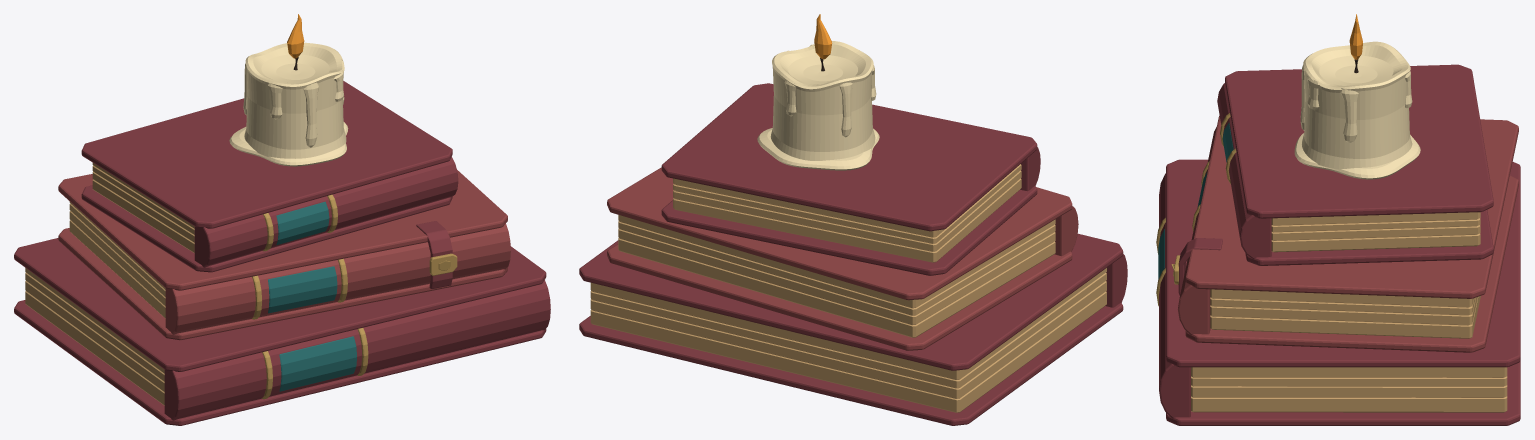
Rendered from asset.glb.
3 renders of one model, left to right at view 1: azimuth 30°, elevation 25°; view 2: azimuth 150°, elevation 25°; view 3: azimuth 270°, elevation 25°, orthographic. The views are drawn at different scales.
Parts seen in each view (by area): view 1: book_top_cover_upper, book_bottom_cover_upper, book_bottom_spine, book_middle_cover_upper, book_middle_spine, candle_wax_body, book_top_spine, book_bottom_cover_lower, book_bottom_page_block, book_middle_cover_lower, book_top_cover_lower, book_middle_page_block (+10 smaller); view 2: book_top_cover_upper, book_bottom_page_block, book_middle_page_block, book_bottom_cover_upper, book_middle_cover_upper, book_top_page_block, candle_wax_body, book_bottom_cover_lower, book_middle_cover_lower, book_top_cover_lower, candle_wax_pool, book_bottom (+7 smaller); view 3: book_top_cover_upper, book_middle_cover_upper, book_bottom_cover_upper, book_bottom_page_block, candle_wax_body, book_middle_page_block, book_top_page_block, book_middle_cover_lower, book_bottom_cover_lower, book_top_cover_lower, book_bottom_spine, book_top_spine (+8 smaller).
Part boxes in pixels (bbox=[...]): book_top_cover_upper: bbox=[81, 81, 452, 228]; book_bottom_cover_upper: bbox=[14, 238, 546, 371]; book_bottom_spine: bbox=[164, 280, 550, 420]; book_middle_cover_upper: bbox=[58, 170, 507, 290]; book_middle_spine: bbox=[165, 223, 510, 334]; candle_wax_body: bbox=[244, 42, 346, 158]; book_top_spine: bbox=[194, 157, 458, 267]; book_bottom_cover_lower: bbox=[14, 300, 546, 425]; book_bottom_page_block: bbox=[25, 268, 164, 405]; book_middle_cover_lower: bbox=[58, 228, 507, 340]; book_top_cover_lower: bbox=[81, 185, 452, 272]; book_middle_page_block: bbox=[69, 201, 165, 318]; book_top_cover_upper: bbox=[661, 83, 1037, 231]; book_bottom_page_block: bbox=[590, 268, 1106, 412]; book_middle_page_block: bbox=[618, 215, 1055, 337]; book_bottom_cover_upper: bbox=[579, 233, 1123, 370]; book_middle_cover_upper: bbox=[607, 167, 1072, 300]; book_top_page_block: bbox=[673, 164, 1021, 262]; candle_wax_body: bbox=[770, 41, 875, 160]; book_bottom_cover_lower: bbox=[579, 303, 1123, 425]; book_middle_cover_lower: bbox=[607, 244, 1072, 350]; book_top_cover_lower: bbox=[661, 186, 1037, 275]; candle_wax_pool: bbox=[757, 128, 879, 170]; book_bottom: bbox=[593, 291, 959, 398]; book_top_cover_upper: bbox=[1225, 64, 1493, 218]; book_middle_cover_upper: bbox=[1185, 115, 1518, 298]; book_bottom_cover_upper: bbox=[1166, 159, 1520, 367]; book_bottom_page_block: bbox=[1191, 367, 1507, 412]; candle_wax_body: bbox=[1302, 41, 1412, 169]; book_middle_page_block: bbox=[1210, 289, 1480, 338]; book_top_page_block: bbox=[1271, 212, 1480, 252]; book_middle_cover_lower: bbox=[1185, 175, 1518, 352]; book_bottom_cover_lower: bbox=[1166, 360, 1520, 425]; book_top_cover_lower: bbox=[1245, 210, 1493, 265]; book_bottom_spine: bbox=[1159, 173, 1190, 418]; book_top_spine: bbox=[1217, 83, 1271, 258].
Bounding box in the file's own units: 0.27 × 0.202 × 0.2055.
